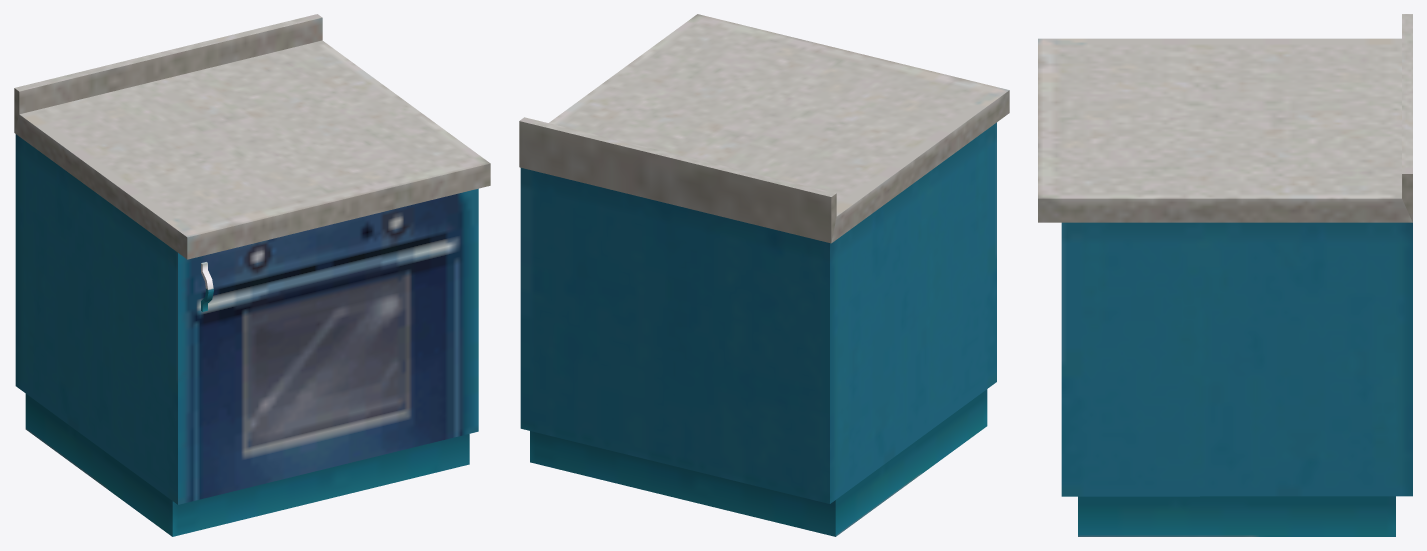
File: furni_0200055_03.FBX
3 renders of one model, left to right at view 1: azimuth 30°, elevation 25°; view 2: azimuth 150°, elevation 25°; view 3: azimuth 270°, elevation 25°, orthographic. The views are drawn at different scales.
Parts seen in each view (by area): view 1: furni_0200055; view 2: furni_0200055; view 3: furni_0200055.
Part boxes in pixels (x1,y1,x2,y2): furni_0200055: (14, 14, 490, 536); furni_0200055: (519, 14, 1009, 536); furni_0200055: (1038, 14, 1412, 536).
Bounding box in the file's own units: 81.16 × 86.09 × 80.27.
Materials: 1 (1 with a texture image).
